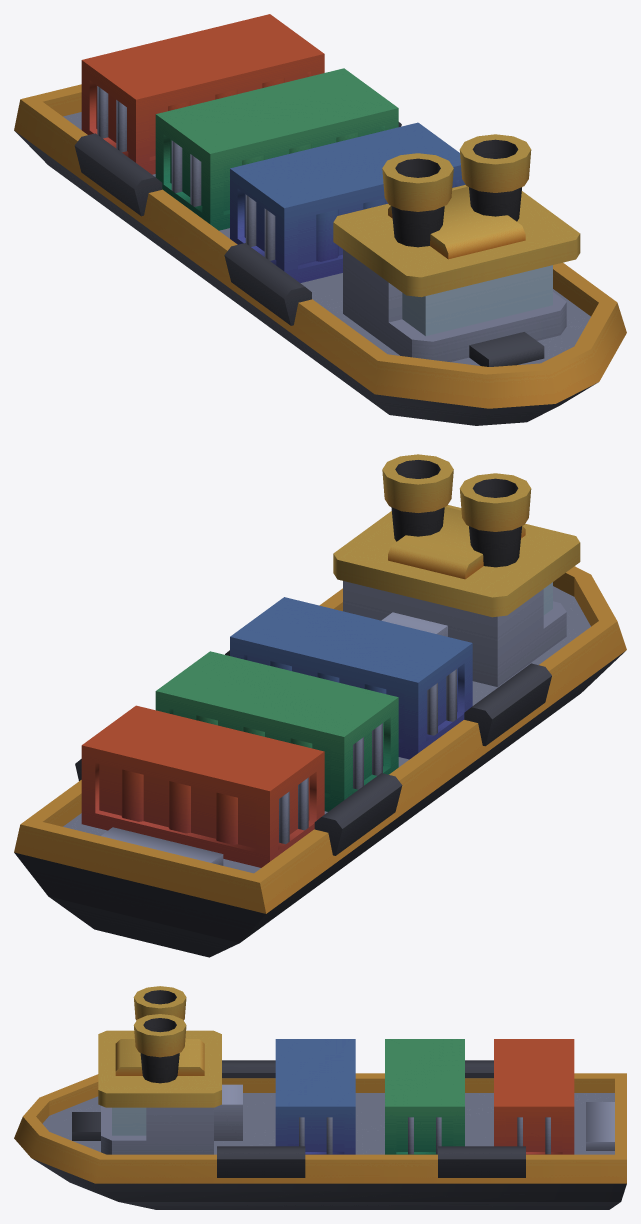
Rendered from ship_cargo_a.glb.
The picture shows the model from 3 angles, top to bottom: view 1: azimuth 30°, elevation 25°; view 2: azimuth 150°, elevation 25°; view 3: azimuth 270°, elevation 25°; orthographic projection. The views are drawn at different scales.
Visible parts, largest first — view 1: ship-cargo-a, cargo-b, cargo-c, cargo-a; view 2: ship-cargo-a, cargo-c, cargo-a, cargo-b; view 3: ship-cargo-a, cargo-a, cargo-c, cargo-b.
Part boxes in pixels (x1,y1,x2,y2): ship-cargo-a: [14, 84, 626, 425]; cargo-b: [155, 68, 398, 230]; cargo-c: [81, 14, 324, 174]; cargo-a: [230, 122, 465, 282]; ship-cargo-a: [14, 454, 626, 957]; cargo-c: [81, 705, 324, 867]; cargo-a: [230, 597, 472, 759]; cargo-b: [155, 651, 398, 811]; ship-cargo-a: [14, 986, 626, 1209]; cargo-a: [275, 1039, 355, 1154]; cargo-c: [494, 1039, 574, 1154]; cargo-b: [385, 1039, 464, 1154].
Bounding box in the file's own units: 3.92 × 3.38 × 10.55.
1 material, 1 textured.
